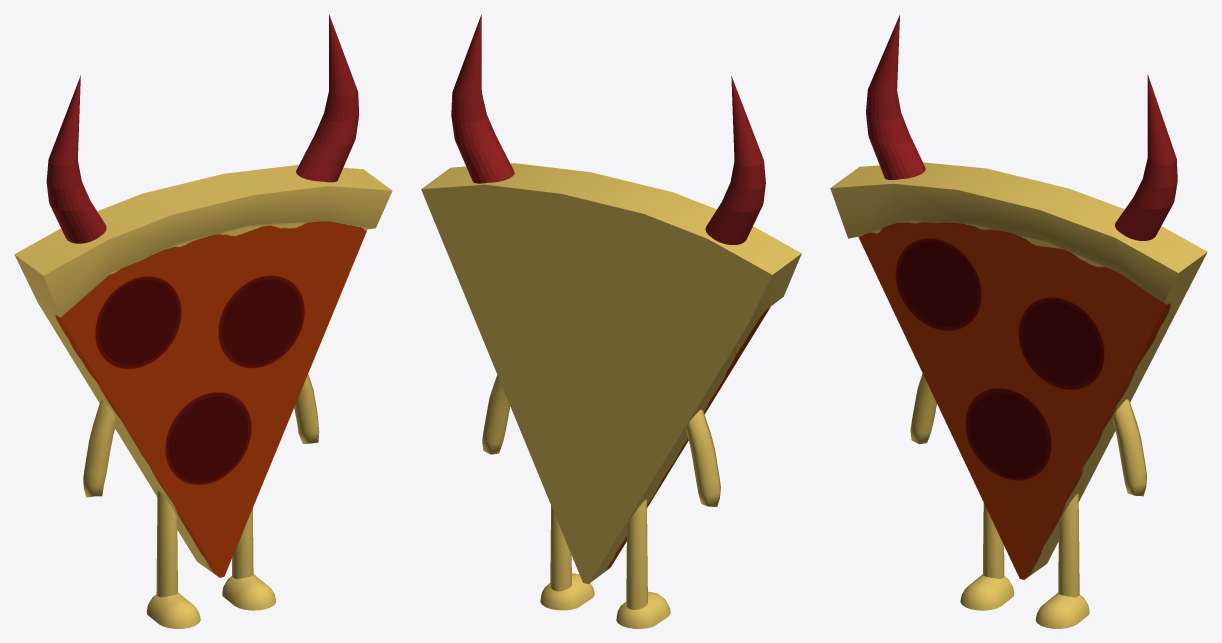
The model's file is Pizza.fbx.
3 renders of one model, left to right at view 1: azimuth 30°, elevation 25°; view 2: azimuth 150°, elevation 25°; view 3: azimuth 330°, elevation 25°, orthographic.
Parts seen in each view (by area): view 1: Box012, Cone007, Cone006, Sphere013, Sphere014, pSphere23, pSphere16; view 2: Box012, Cone007, Cone006, Sphere013, Sphere014, pSphere23, pSphere16; view 3: Box012, Cone006, Cone007, Sphere014, Sphere013, pSphere16, pSphere23.
Boxes of the visible parts, x1,y1,x2,y2 form: Box012: (14, 165, 392, 577); Cone007: (296, 14, 359, 182); Cone006: (46, 75, 106, 243); Sphere013: (146, 491, 200, 628); Sphere014: (222, 508, 275, 610); pSphere23: (83, 400, 117, 497); pSphere16: (294, 374, 319, 443); Box012: (421, 163, 801, 583); Cone007: (451, 14, 514, 183); Cone006: (705, 76, 765, 244); Sphere013: (616, 499, 670, 628); Sphere014: (540, 505, 594, 610); pSphere23: (685, 409, 720, 506); pSphere16: (482, 375, 510, 454); Box012: (830, 162, 1207, 579); Cone006: (866, 15, 925, 179); Cone007: (1115, 74, 1177, 240); Sphere014: (1035, 494, 1089, 628); Sphere013: (960, 503, 1014, 610); pSphere16: (1112, 399, 1146, 496); pSphere23: (910, 373, 936, 444).
Size of the model in its own units: 28.95 by 44.49 by 4.58.
